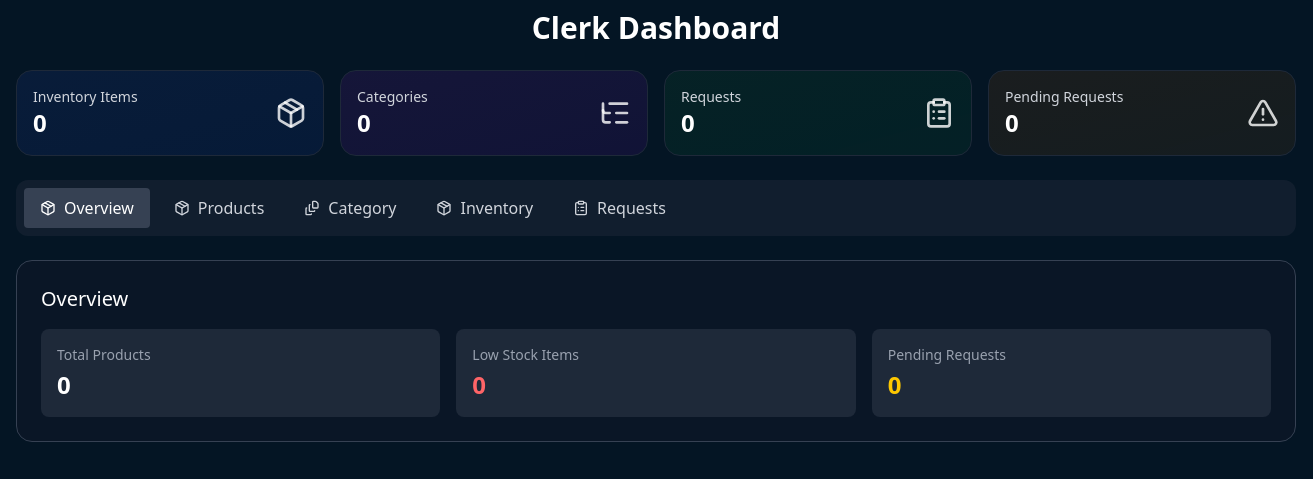
Test: ClerkDashboard › switches to Requests tab
Click the button "Requests" at point(620, 208), box [557,188,682,228]
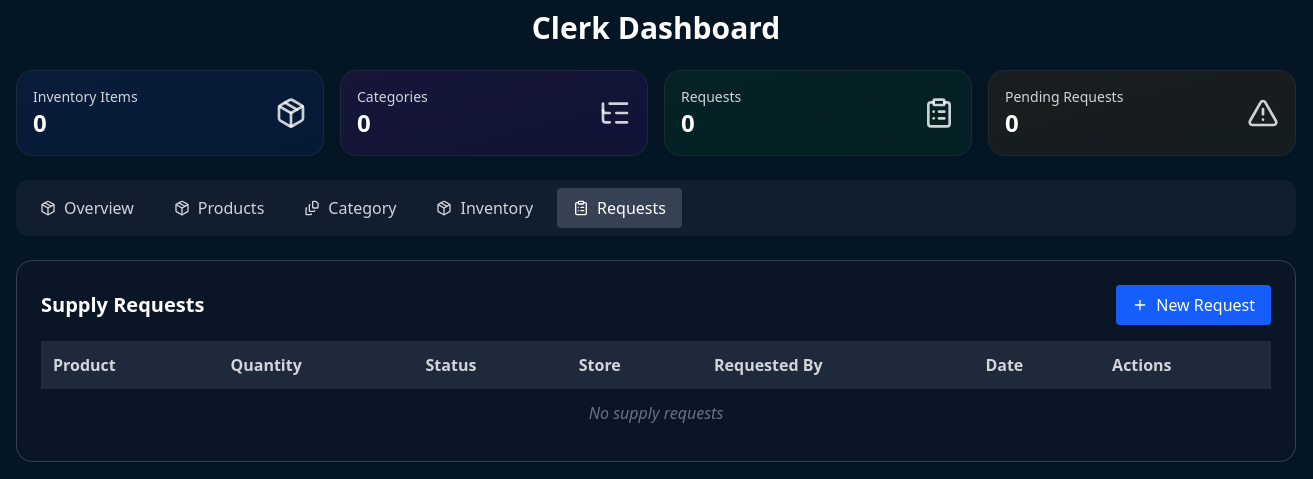
Check: the column heading "Requested By" is shown, box [702,341,973,389]
